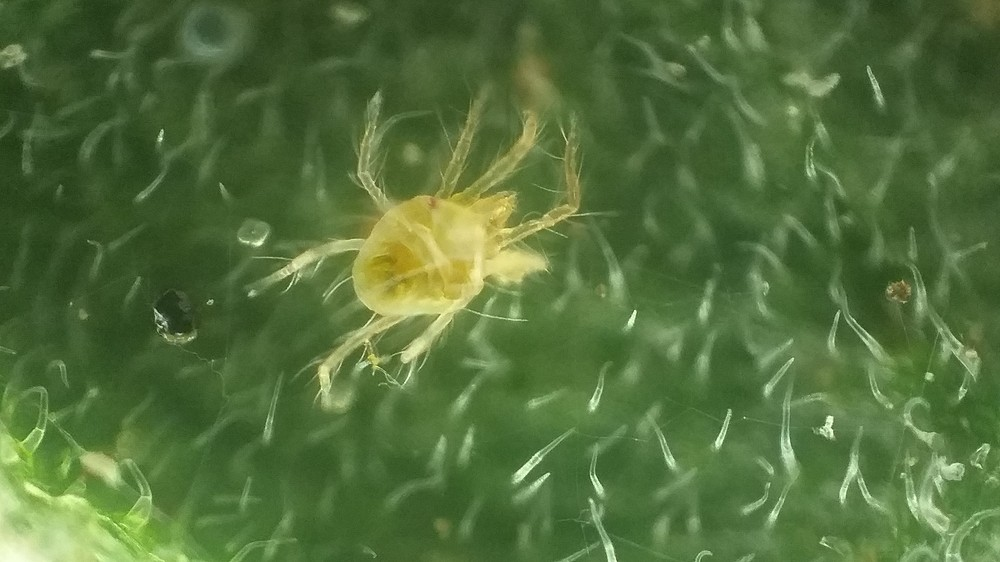Aracnido Rojo: (233, 77, 616, 397)
